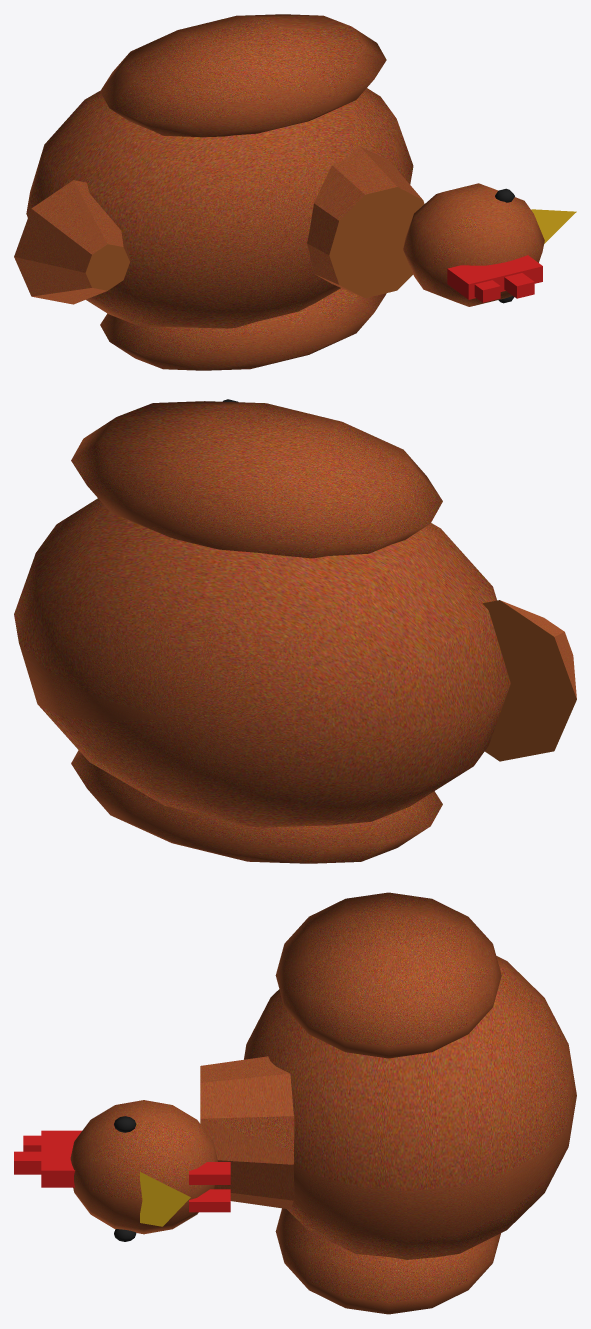
The model's file is chicken_resting.obj.
The picture shows the model from 3 angles, top to bottom: view 1: azimuth 30°, elevation 25°; view 2: azimuth 150°, elevation 25°; view 3: azimuth 270°, elevation 25°; orthographic projection. The views are drawn at different scales.
Size of the model in its own units: 0.315 by 0.1976 by 0.299.
Materials: 4 (1 with a texture image).
